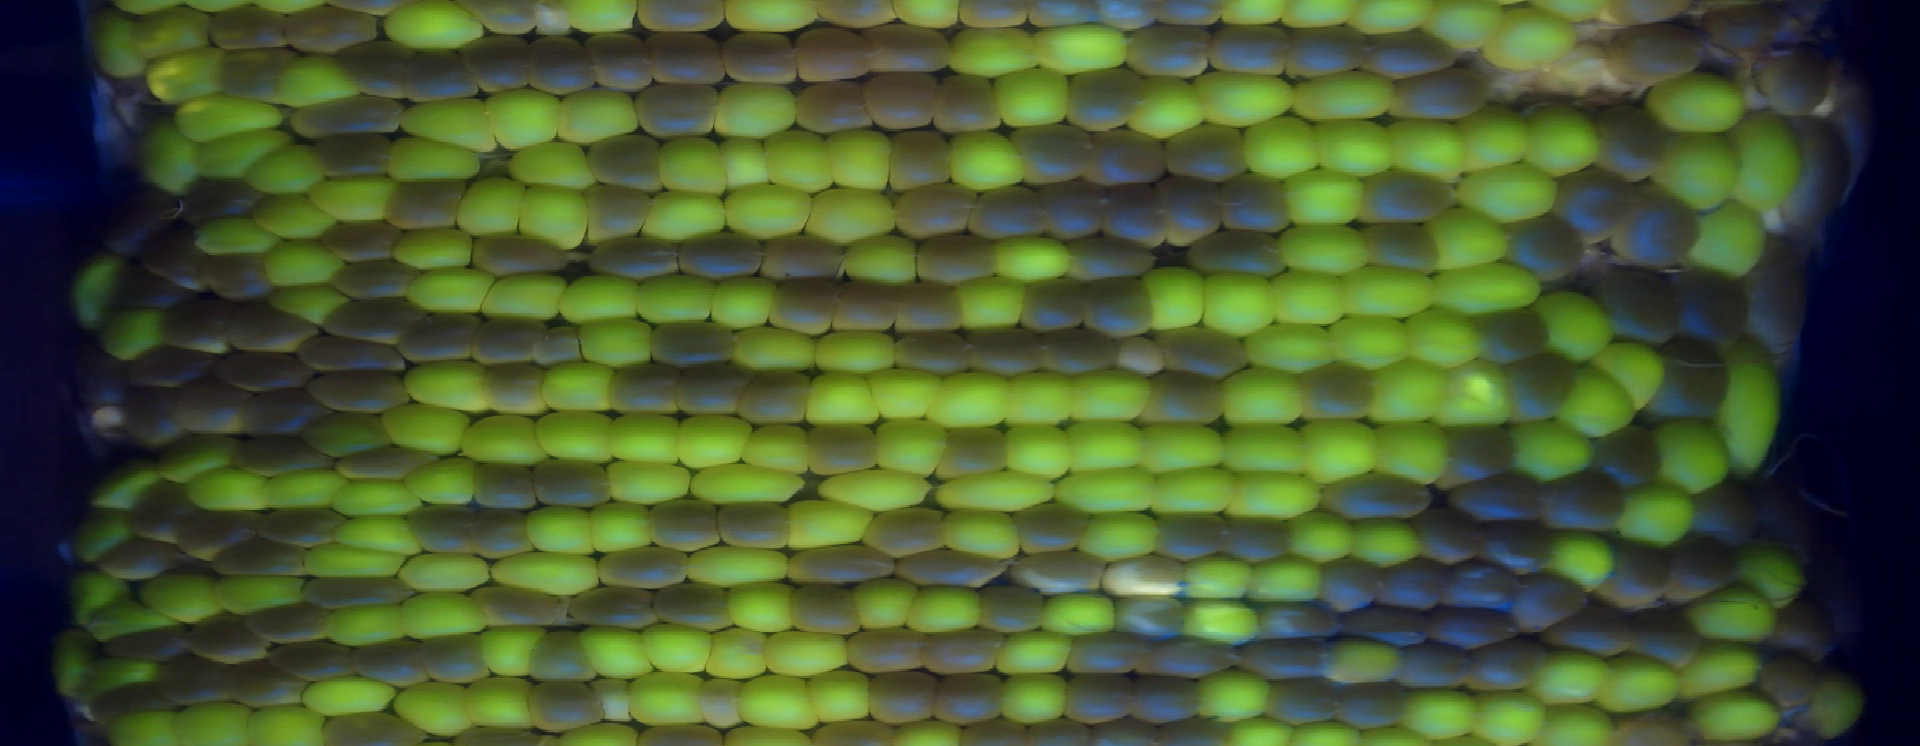fluorescent: (1720, 347, 1780, 477), (1658, 136, 1741, 217), (1734, 111, 1801, 211), (1460, 163, 1558, 225), (1684, 582, 1776, 646), (1648, 72, 1742, 134), (1653, 414, 1727, 492), (1198, 67, 1293, 127), (1483, 6, 1573, 69), (1693, 202, 1768, 277), (1507, 419, 1596, 481), (1558, 365, 1633, 437), (398, 97, 495, 152), (808, 186, 902, 243), (1523, 105, 1598, 176), (1598, 650, 1682, 712), (1369, 356, 1449, 421), (1291, 73, 1393, 124), (174, 94, 287, 140), (937, 472, 1056, 514), (1433, 265, 1539, 312), (1222, 364, 1302, 428), (818, 467, 929, 512), (519, 183, 593, 251), (1373, 423, 1450, 488), (1427, 207, 1509, 267), (1340, 265, 1435, 316), (1315, 118, 1395, 179), (1594, 342, 1664, 412), (1540, 292, 1611, 360), (492, 550, 602, 594), (1393, 118, 1467, 184), (1616, 486, 1695, 548), (380, 1, 482, 48), (1284, 167, 1364, 227), (1204, 272, 1277, 337), (1439, 361, 1512, 426), (1221, 420, 1305, 477), (1223, 473, 1322, 521), (1303, 420, 1373, 486), (1278, 224, 1370, 274), (931, 370, 1009, 429), (576, 624, 654, 682), (726, 191, 816, 243), (1689, 697, 1784, 745), (658, 137, 733, 197), (393, 681, 478, 735), (1144, 266, 1212, 332), (692, 464, 803, 505), (874, 420, 948, 481), (1240, 323, 1332, 372), (307, 175, 397, 225), (558, 83, 638, 140), (1071, 367, 1151, 424), (1128, 77, 1202, 137), (382, 404, 469, 456), (825, 127, 891, 195), (1531, 650, 1611, 706), (136, 122, 198, 194), (198, 127, 280, 181), (736, 677, 818, 731), (1540, 530, 1614, 590), (1408, 309, 1483, 367), (1332, 317, 1412, 372), (1153, 465, 1233, 521), (1741, 541, 1809, 606), (643, 192, 730, 243), (763, 130, 833, 192), (716, 82, 797, 136), (640, 269, 721, 323), (949, 127, 1021, 187), (989, 72, 1068, 127), (402, 361, 487, 412), (277, 51, 356, 105), (491, 87, 561, 148), (1033, 24, 1125, 71), (508, 141, 595, 190), (803, 372, 880, 428), (482, 272, 564, 323), (947, 27, 1037, 73), (1461, 107, 1526, 171), (399, 590, 487, 638), (405, 266, 491, 315), (1272, 265, 1341, 326), (144, 47, 220, 102), (1145, 420, 1226, 472), (955, 276, 1029, 332), (1060, 470, 1153, 514), (538, 407, 613, 461), (1476, 688, 1547, 746), (576, 318, 659, 367), (329, 514, 427, 556), (387, 136, 481, 179), (140, 573, 224, 621), (456, 176, 525, 234), (680, 415, 751, 472), (73, 252, 124, 332), (732, 326, 818, 372), (787, 501, 873, 548), (1195, 669, 1269, 723), (704, 626, 773, 684), (216, 575, 307, 617), (249, 195, 333, 241), (1078, 514, 1160, 562), (943, 505, 1019, 556), (773, 632, 849, 684), (1068, 419, 1147, 468), (402, 552, 490, 597), (334, 477, 422, 521), (1007, 370, 1074, 428), (464, 416, 547, 463), (136, 7, 213, 58), (631, 676, 708, 726), (1240, 121, 1318, 171), (869, 367, 940, 421), (186, 467, 268, 513), (688, 548, 789, 586), (842, 234, 916, 285), (160, 432, 238, 481), (558, 276, 639, 322), (93, 597, 174, 643), (647, 622, 716, 676), (252, 147, 327, 197), (1247, 557, 1321, 608), (264, 236, 340, 285), (538, 363, 613, 412), (996, 628, 1071, 677), (610, 413, 680, 465), (528, 505, 598, 557), (87, 17, 144, 81), (69, 567, 133, 624), (302, 677, 396, 717), (88, 458, 156, 512), (1678, 644, 1757, 690), (909, 584, 983, 632), (1004, 423, 1070, 477), (410, 458, 482, 507), (304, 541, 403, 577), (1036, 592, 1118, 635), (1178, 601, 1260, 644), (393, 228, 473, 272), (1420, 2, 1500, 47), (1402, 690, 1476, 737), (726, 582, 796, 632), (100, 307, 165, 361), (264, 470, 348, 512), (853, 575, 913, 632), (996, 236, 1071, 282), (1329, 638, 1398, 687), (192, 216, 277, 256), (813, 332, 898, 372), (480, 626, 546, 677), (1000, 673, 1068, 723), (1183, 554, 1251, 603), (178, 699, 249, 746), (714, 274, 773, 330), (1356, 521, 1422, 570), (590, 502, 653, 554), (744, 425, 813, 472), (1291, 514, 1356, 563), (609, 461, 692, 499), (467, 679, 533, 726), (249, 704, 328, 744), (1538, 707, 1616, 746), (808, 673, 868, 722), (323, 608, 403, 644), (722, 1, 818, 29), (55, 628, 93, 697), (78, 511, 129, 562), (1353, 1, 1428, 36), (719, 138, 768, 190), (560, 1, 636, 34), (111, 709, 176, 746), (88, 659, 159, 691), (893, 1, 962, 32)
nonfluorescent: (1742, 232, 1804, 363), (1780, 118, 1848, 232), (1644, 337, 1729, 420), (1619, 187, 1700, 272), (1554, 167, 1632, 243), (1599, 269, 1678, 345), (1319, 474, 1438, 523), (1607, 23, 1708, 80), (1536, 467, 1622, 532), (1600, 537, 1670, 612), (584, 134, 669, 196), (1384, 72, 1488, 122), (1678, 267, 1747, 342), (1185, 232, 1288, 282), (1140, 372, 1229, 430), (1153, 176, 1226, 247), (1753, 44, 1827, 111), (1360, 170, 1453, 223), (1511, 568, 1589, 631), (1164, 122, 1253, 178), (1442, 475, 1544, 523), (1598, 108, 1663, 183), (1011, 126, 1097, 183), (647, 29, 729, 88), (1084, 127, 1166, 186), (288, 98, 405, 138), (235, 431, 334, 479), (1509, 216, 1580, 282), (324, 299, 422, 347), (647, 318, 737, 370), (1364, 27, 1455, 78), (1283, 23, 1371, 76), (1506, 352, 1569, 425), (633, 86, 720, 138), (1068, 72, 1144, 132), (1125, 26, 1213, 77), (1160, 327, 1248, 379), (1097, 183, 1167, 247), (916, 234, 1002, 287), (299, 575, 421, 611), (1673, 534, 1739, 601), (1233, 637, 1329, 684), (156, 653, 241, 704), (298, 334, 407, 375), (340, 40, 415, 99), (864, 668, 939, 726), (1547, 609, 1638, 657), (898, 548, 1013, 586), (1692, 481, 1750, 557), (109, 192, 171, 262), (898, 180, 975, 236), (762, 232, 846, 283), (230, 303, 317, 352), (653, 581, 733, 633), (288, 5, 387, 48), (173, 382, 250, 437), (1303, 364, 1375, 423), (311, 372, 415, 413), (1140, 639, 1238, 682), (1209, 24, 1288, 77), (527, 38, 596, 98), (162, 292, 231, 352), (1442, 424, 1513, 483), (471, 232, 566, 276), (796, 27, 869, 83), (144, 228, 209, 292), (1593, 428, 1660, 489), (587, 32, 655, 92), (720, 31, 796, 85), (1629, 610, 1700, 668), (793, 82, 874, 132), (933, 73, 999, 135), (864, 26, 951, 72), (219, 47, 288, 105), (1476, 311, 1550, 365), (964, 327, 1046, 376), (1363, 224, 1442, 274), (1221, 176, 1293, 232), (1087, 274, 1153, 334), (789, 546, 896, 583), (473, 583, 562, 627), (866, 72, 936, 129), (1011, 551, 1106, 593), (1149, 513, 1231, 561), (1018, 278, 1089, 333), (336, 442, 432, 483), (1013, 505, 1089, 556), (470, 459, 542, 513), (206, 6, 291, 51), (568, 586, 659, 628), (1766, 601, 1833, 659), (1265, 676, 1342, 726), (937, 426, 1010, 479), (866, 506, 947, 554), (609, 364, 683, 415), (1429, 608, 1516, 652), (407, 314, 478, 367), (1378, 559, 1449, 612), (680, 233, 762, 279), (971, 187, 1047, 238), (530, 630, 598, 686), (590, 236, 678, 279), (1070, 236, 1158, 279), (129, 345, 214, 390), (89, 682, 175, 726), (1342, 606, 1433, 648), (204, 541, 304, 579), (791, 581, 862, 633), (189, 615, 268, 661), (534, 461, 613, 507), (676, 365, 749, 415), (181, 508, 258, 556), (422, 631, 492, 684), (122, 390, 182, 451), (1065, 632, 1149, 676), (530, 679, 605, 728), (1396, 642, 1471, 691), (829, 281, 900, 332), (384, 183, 463, 229), (1471, 642, 1543, 692), (353, 639, 429, 687), (96, 538, 182, 579), (1064, 673, 1133, 725), (1417, 510, 1485, 562), (182, 176, 262, 222), (1044, 181, 1103, 243), (408, 51, 478, 103), (770, 281, 834, 337), (467, 37, 531, 92), (587, 187, 651, 243), (242, 393, 326, 436), (719, 500, 793, 548), (1224, 517, 1296, 567), (260, 507, 348, 548), (1484, 522, 1551, 575), (651, 497, 720, 549), (891, 131, 954, 187), (1256, 601, 1341, 643), (740, 372, 809, 423), (251, 605, 340, 644), (806, 425, 880, 472), (1043, 328, 1118, 375), (273, 639, 359, 680), (601, 546, 689, 586), (896, 333, 969, 381), (894, 282, 962, 332), (235, 661, 304, 712), (218, 352, 309, 390), (485, 363, 549, 416), (408, 503, 478, 552), (937, 673, 1004, 723), (1128, 675, 1200, 722), (207, 254, 276, 303), (135, 483, 187, 546), (313, 132, 389, 176), (980, 581, 1044, 632), (1315, 559, 1380, 610), (1449, 559, 1513, 610), (473, 318, 542, 366), (847, 631, 927, 673), (1758, 650, 1813, 710), (1116, 597, 1187, 643), (328, 261, 418, 298), (326, 220, 407, 261), (468, 510, 535, 557), (923, 632, 999, 674), (1340, 681, 1409, 725), (105, 628, 193, 661), (1118, 336, 1164, 380), (538, 327, 587, 363)
